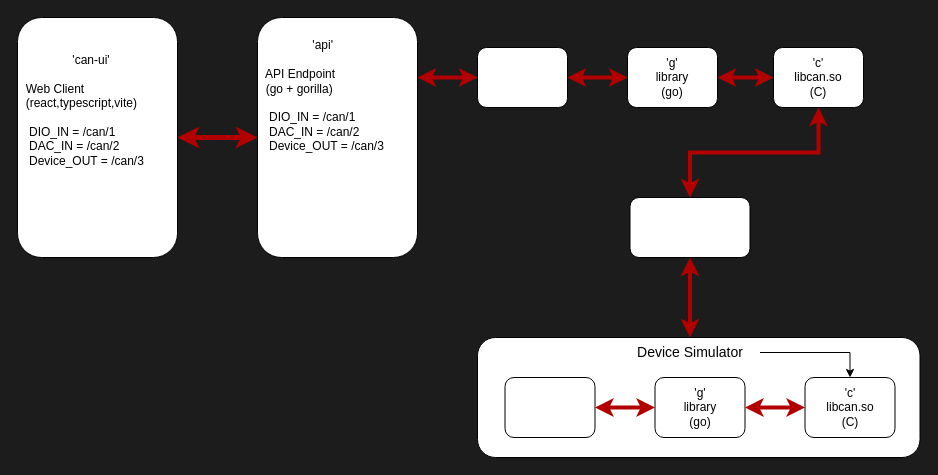
The diagram is 938 pixels wide and 475 high, and some of its shapes have lost their labels. Each missing label, with the centre of its shape:
"'client' executable (go)" goes at [522,77].
"'device' executable (go)" goes at [549,407].
"linux VCAN" goes at [689,227].
